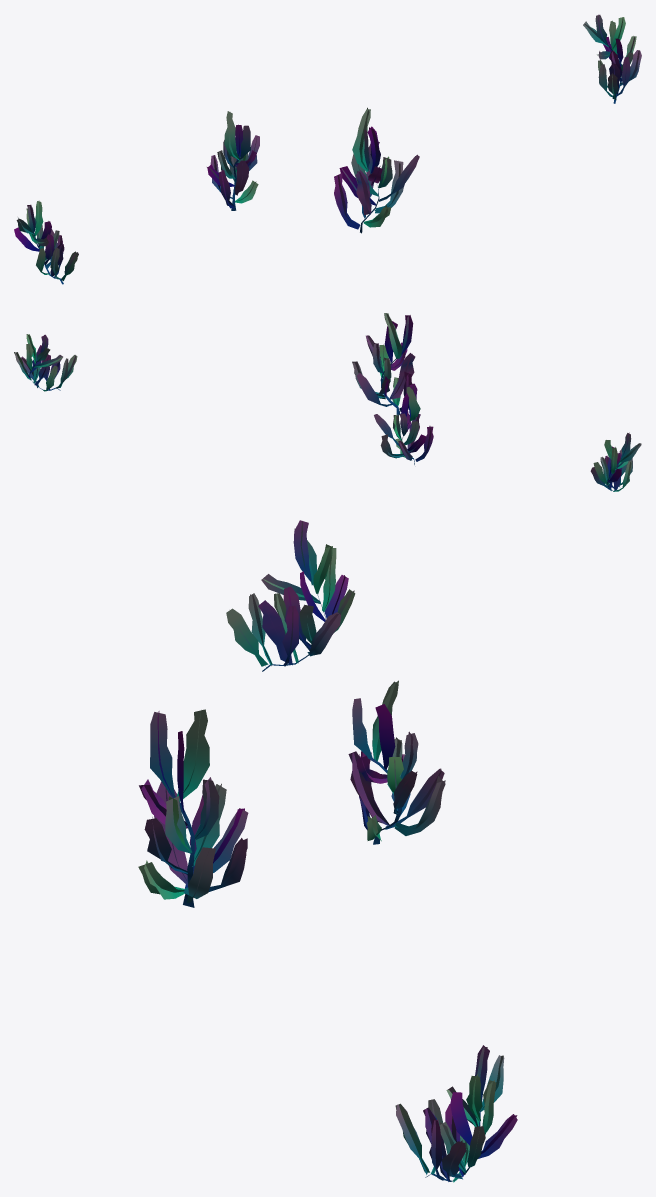
File: grasses.fbx
3 renders of one model, top to bottom at view 1: azimuth 30°, elevation 25°; view 2: azimuth 150°, elevation 25°; view 3: azimuth 270°, elevation 25°, orthographic. The views are drawn at different scales.
Parts seen in each view (by area): view 1: _2t03_VarB_LOD3.003, _2t03_VarB_LOD3, _tpdz_VarA_LOD3.001, _tpdz_VarA_LOD3; view 2: _2t03_VarB_LOD3.003, _2t03_VarB_LOD3, _tpdz_VarA_LOD3.001, _tpdz_VarA_LOD3; view 3: _2t03_VarB_LOD3.003, _tpdz_VarA_LOD3, _2t03_VarB_LOD3, _tpdz_VarA_LOD3.001.
Part boxes in pixels (<box>): _2t03_VarB_LOD3.003: <box>334,107,419,233</box>; _2t03_VarB_LOD3: <box>207,111,259,210</box>; _tpdz_VarA_LOD3.001: <box>583,14,641,103</box>; _tpdz_VarA_LOD3: <box>14,200,78,284</box>; _2t03_VarB_LOD3.003: <box>352,313,415,415</box>; _2t03_VarB_LOD3: <box>374,383,433,464</box>; _tpdz_VarA_LOD3.001: <box>14,334,77,391</box>; _tpdz_VarA_LOD3: <box>590,432,641,491</box>; _2t03_VarB_LOD3.003: <box>138,709,248,907</box>; _tpdz_VarA_LOD3: <box>226,520,355,671</box>; _2t03_VarB_LOD3: <box>348,680,445,844</box>; _tpdz_VarA_LOD3.001: <box>395,1045,517,1182</box>.
Bounding box in the file's own units: 298 × 84.16 × 50.87.
